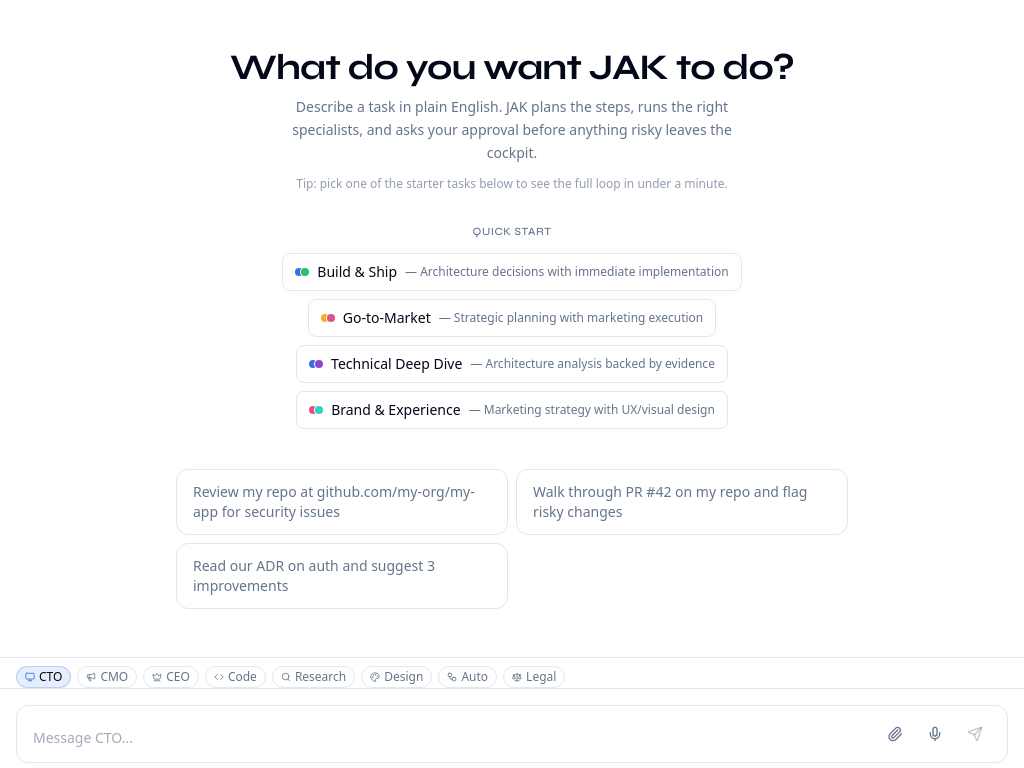
ChatWorkspace follow-up lifecycle contract › shows a clean start error when the create response has no workflow id
This screenshot has width=1024, height=768.
Step 1. Type "review this website" into the text box with test id "chat-input-textarea" → (452, 738), box [33,727,871,750]
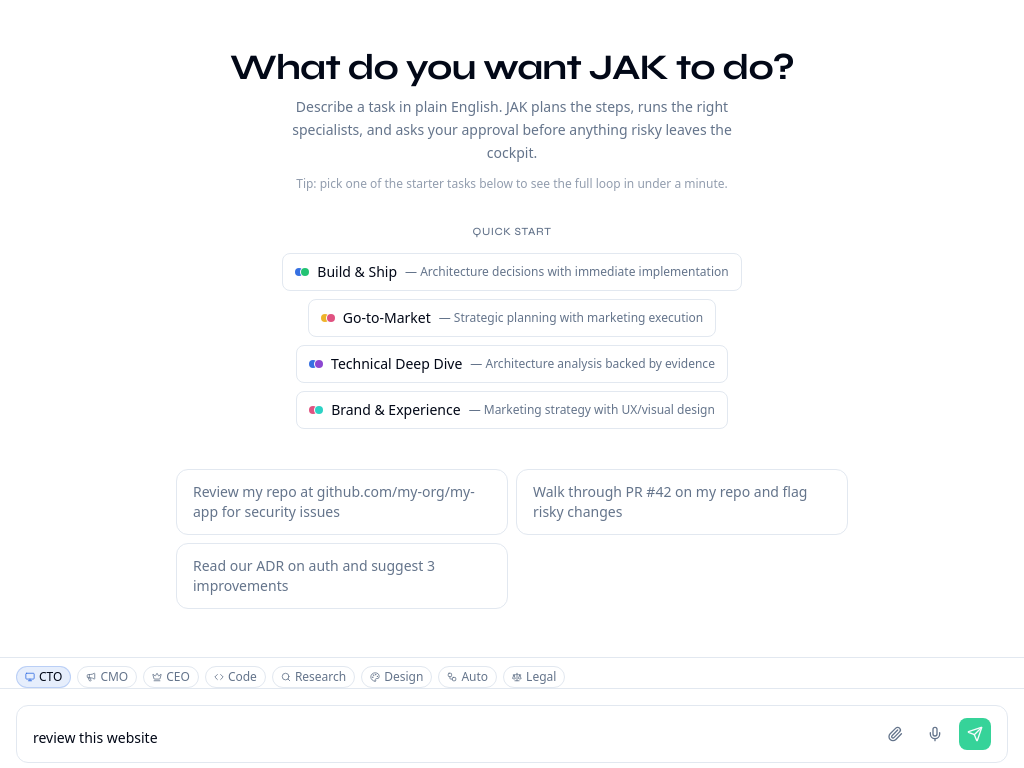
Step 2. Click the button named "Send message" → (975, 734), box [959,718,991,750]
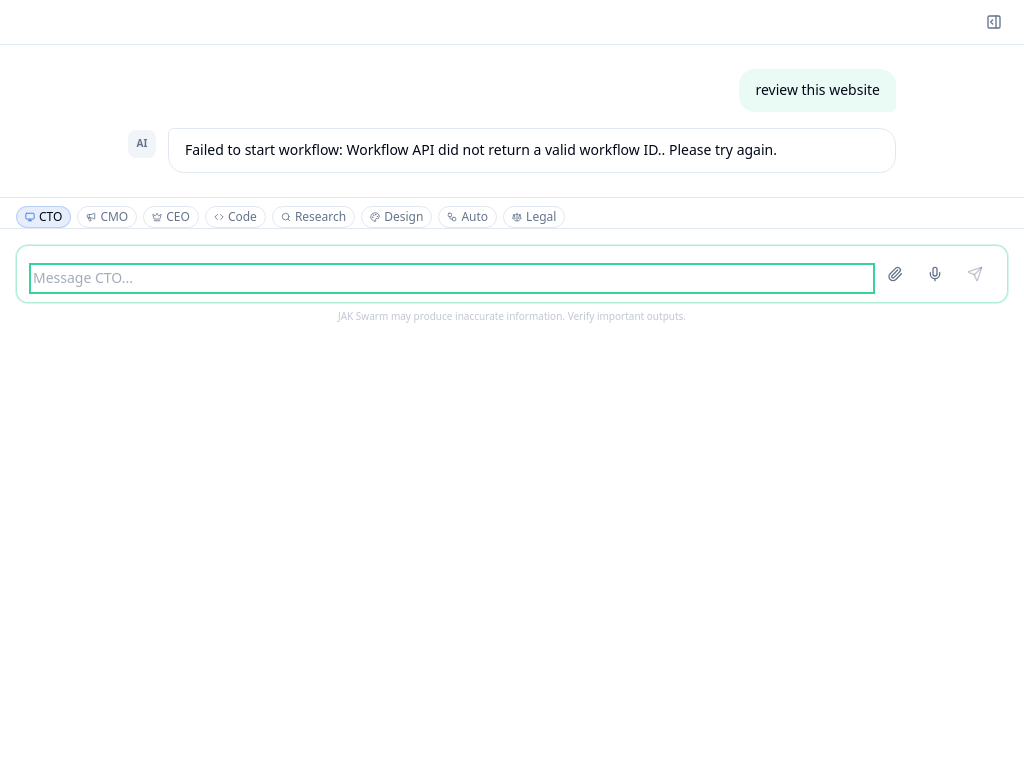
Expected: the text "Failed to start workflow: Workflow API did not return a valid workflow ID." is shown, [185,140,777,159]
